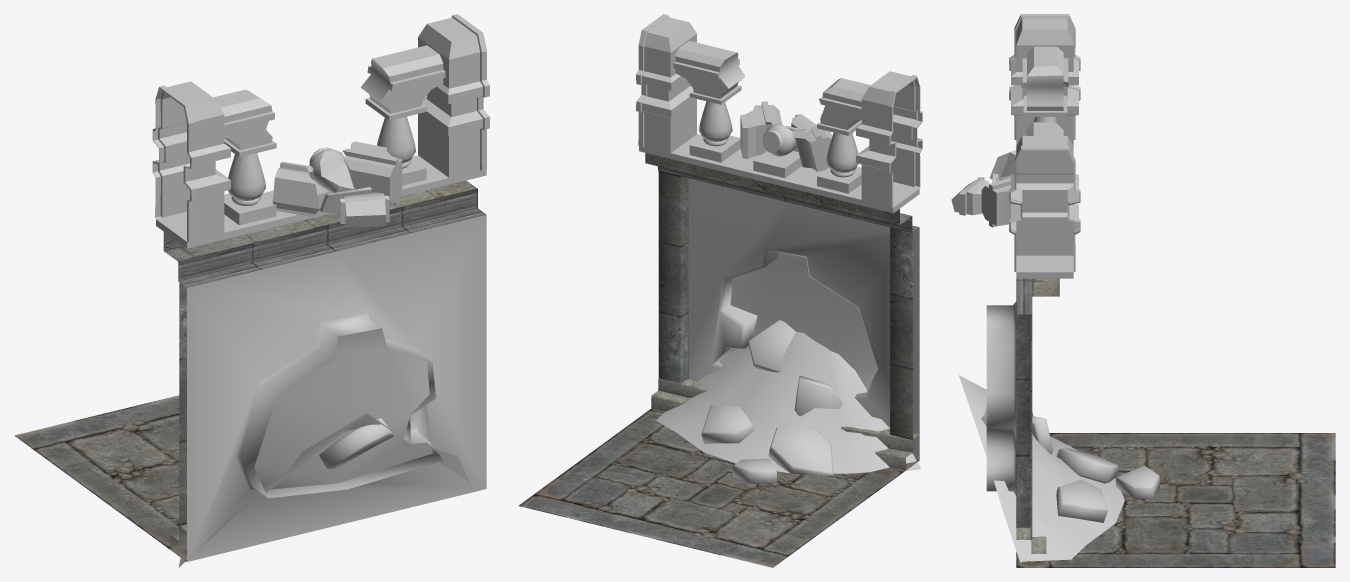
File: UnderWall1Broken2.FBX
3 renders of one model, left to right at view 1: azimuth 30°, elevation 25°; view 2: azimuth 150°, elevation 25°; view 3: azimuth 270°, elevation 25°, orthographic. The views are drawn at different scales.
Visible parts, largest first — view 1: Object32; view 2: Object32; view 3: Object32.
Part boxes in pixels (<box>): Object32: <box>14,14,489,567</box>; Object32: <box>518,14,922,567</box>; Object32: <box>951,14,1335,567</box>.
Size of the model in its own units: 509 by 744 by 602.
